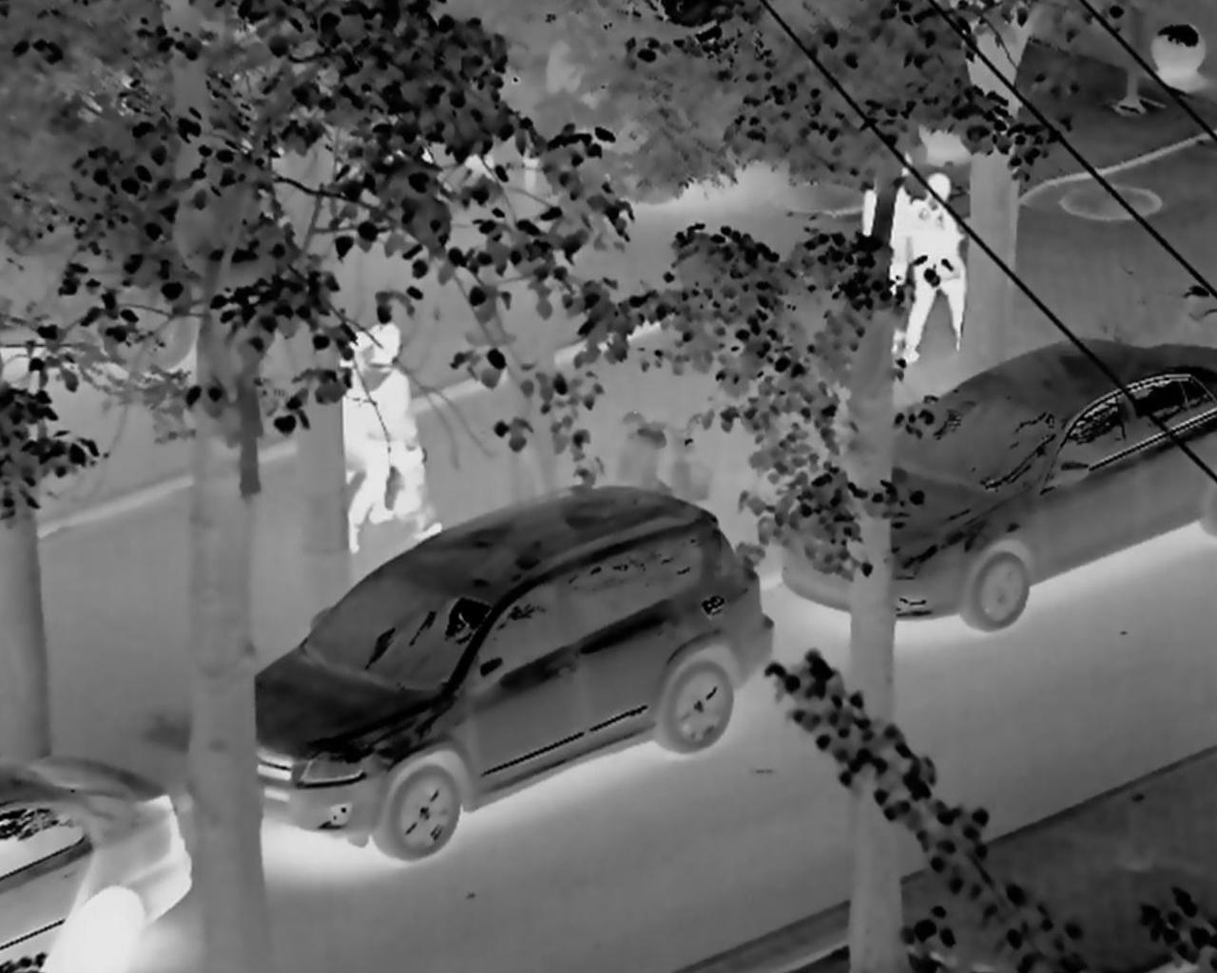person: (353, 322, 439, 545), (902, 172, 970, 373), (859, 139, 914, 343)
